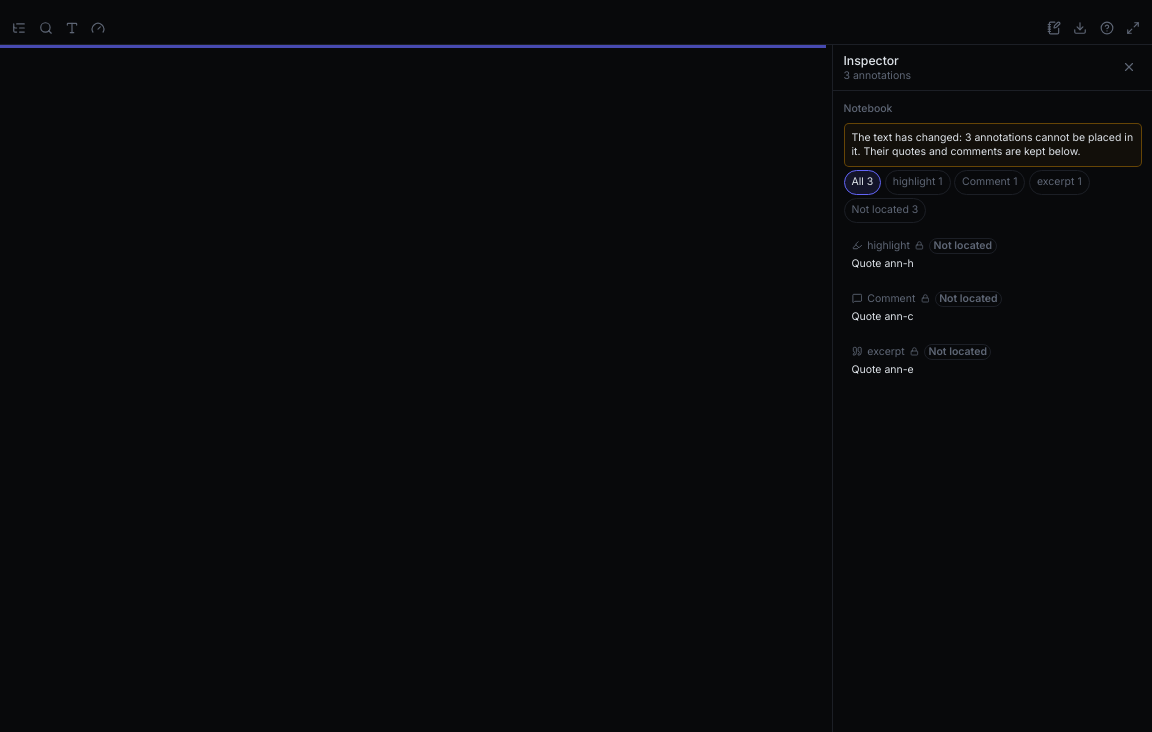
Test: notebook › filters annotations by type and back to all
This screenshot has width=1152, height=732.
Click the button "Comment 1". click: (990, 182)
box: [954,170,1026,194]
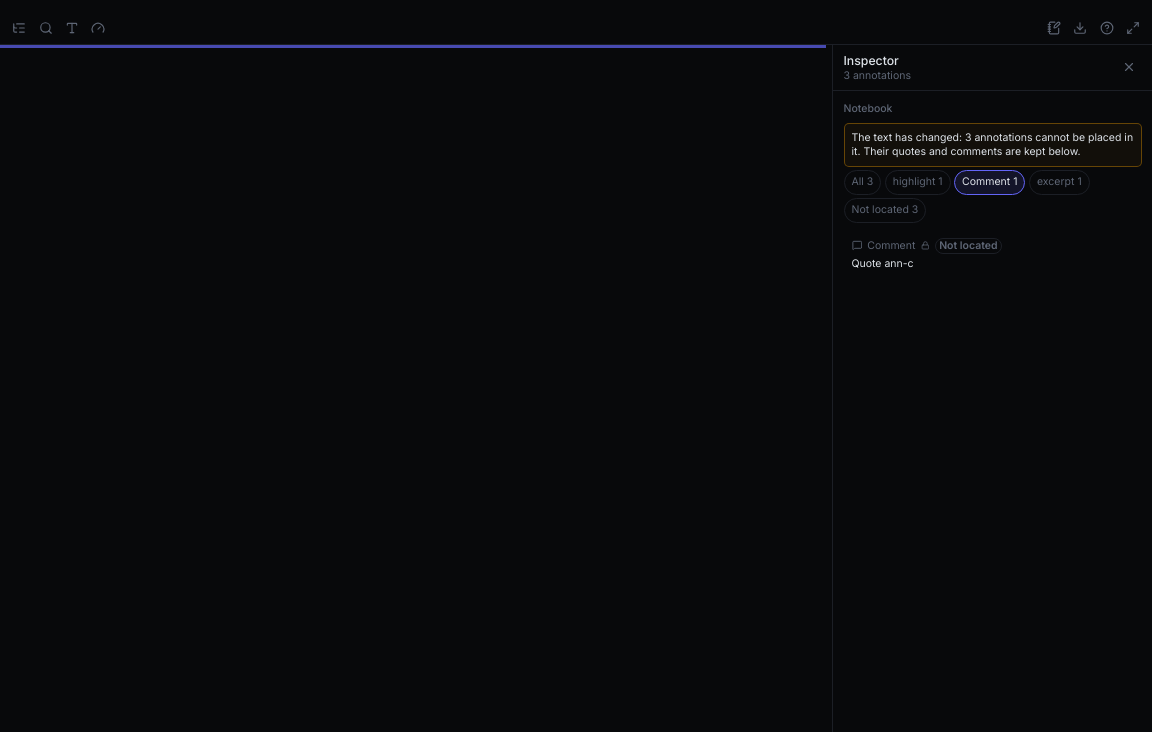
Click the button "All 3". click: (862, 182)
box: [844,170,881,194]
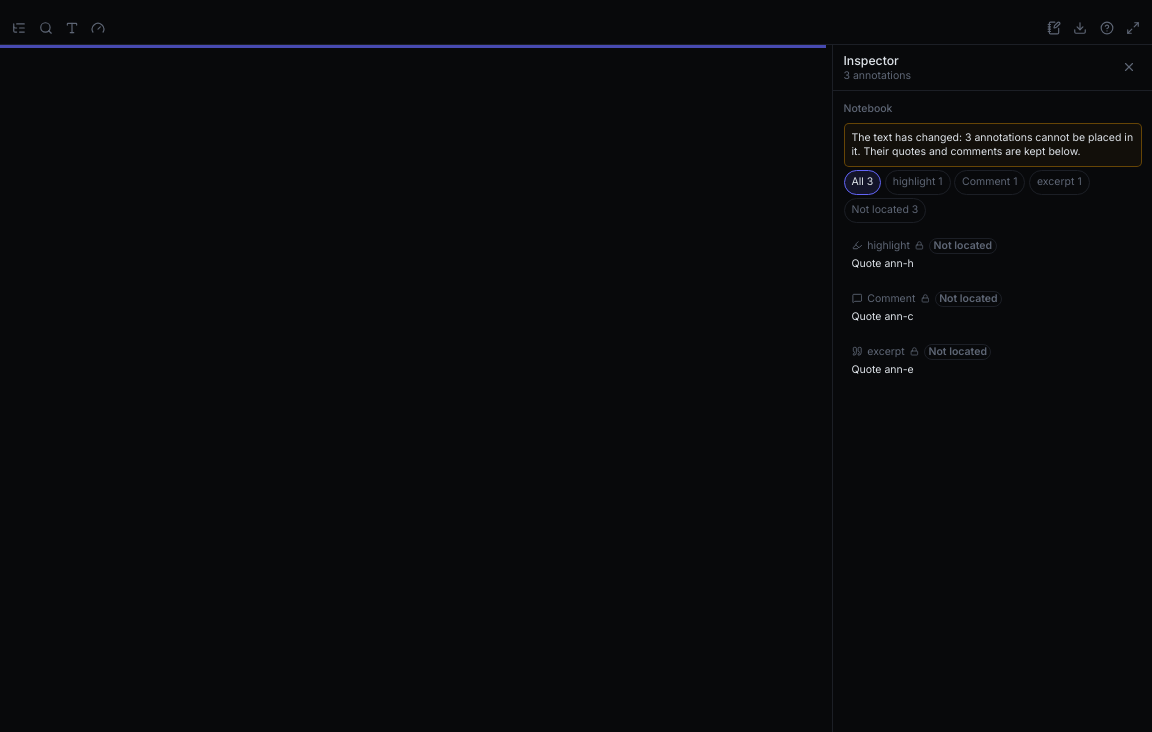
Expected: the number of buttons "highlight Not located Quote ann-h" is 3, [844,230,1142,279]; [844,282,1142,332]; [844,336,1142,385]
